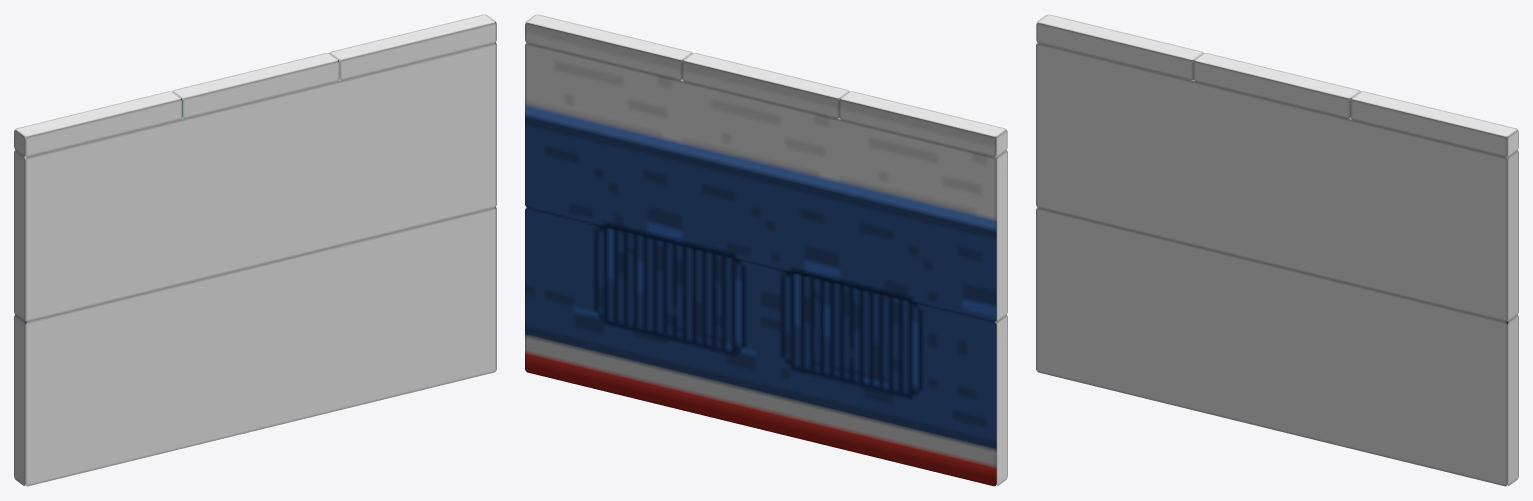
File: df4d_right_board_d.obj
3 views of the same model, side by side, from view 1: azimuth 30°, elevation 25°; view 2: azimuth 150°, elevation 25°; view 3: azimuth 330°, elevation 25° (orthographic).
Parts seen in each view (by area): view 1: df4d_right_broad_d; view 2: df4d_right_broad_d; view 3: df4d_right_broad_d.
Part boxes in pixels (<box>): df4d_right_broad_d: <box>14,14,496,486</box>; df4d_right_broad_d: <box>525,14,1007,486</box>; df4d_right_broad_d: <box>1036,14,1518,486</box>.
Size of the model in its own units: 3 by 2.12 by 0.1258.
